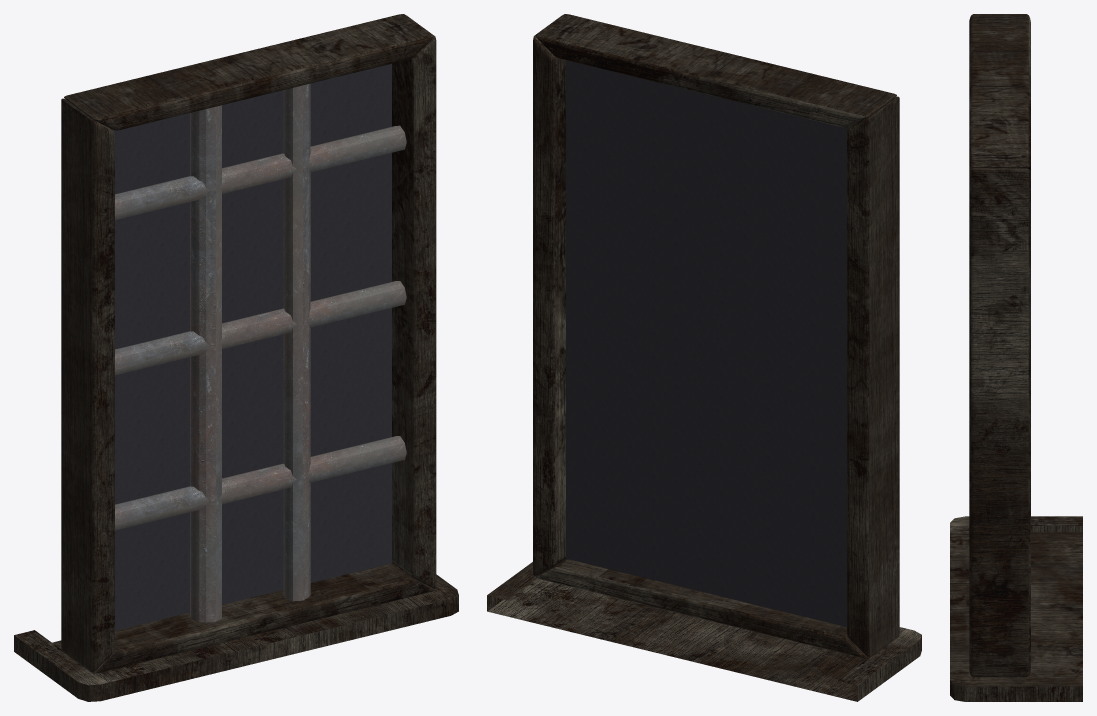
Rendered from WoodWindow.fbx.
The picture shows the model from 3 angles, left to right: view 1: azimuth 30°, elevation 25°; view 2: azimuth 150°, elevation 25°; view 3: azimuth 270°, elevation 25°; orthographic projection. The views are drawn at different scales.
Visible parts, largest first — view 1: Square Window Wood; view 2: Square Window Wood; view 3: Square Window Wood.
Part boxes in pixels (x1,y1,x2,y2): Square Window Wood: (14, 14, 458, 701); Square Window Wood: (487, 14, 921, 701); Square Window Wood: (950, 14, 1082, 701).
Bounding box in the file's own units: 98.05 × 142 × 32.38.
